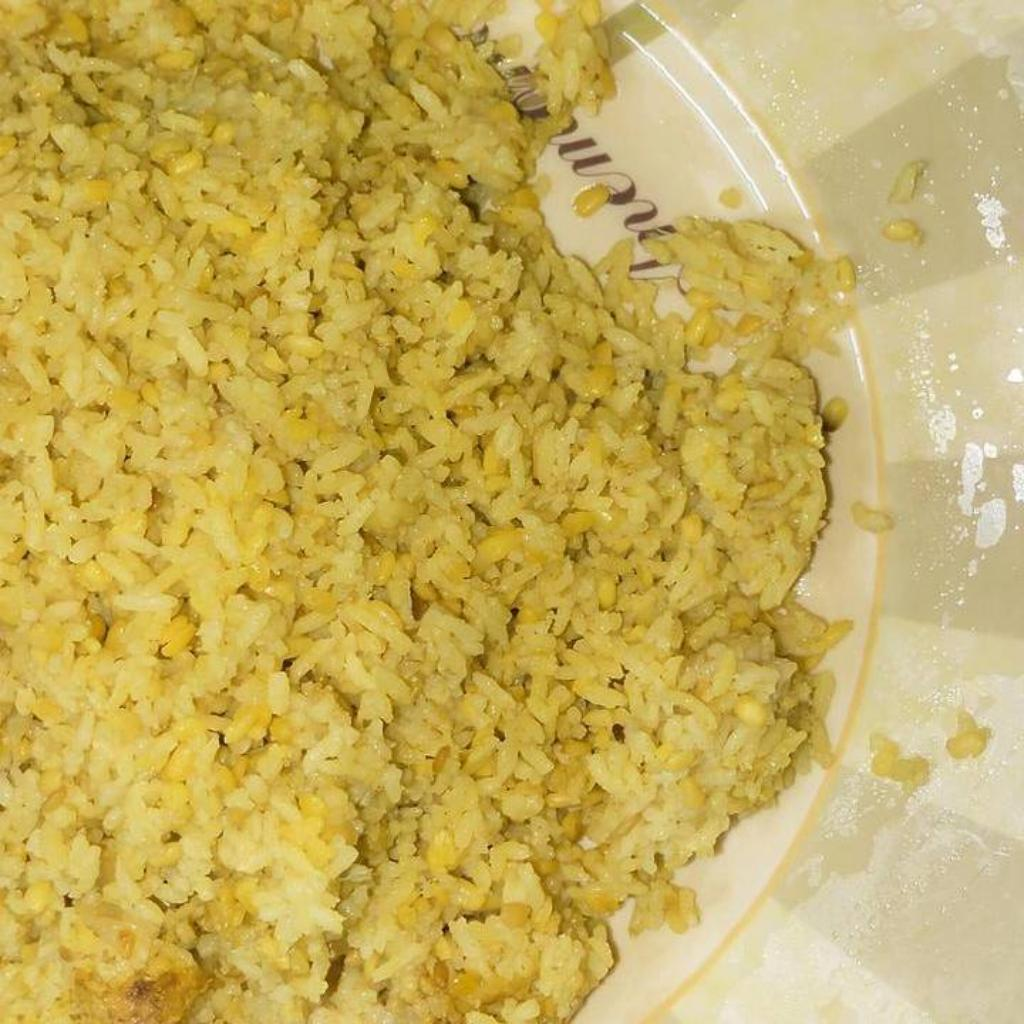khichuri: (0, 0, 852, 1023)
